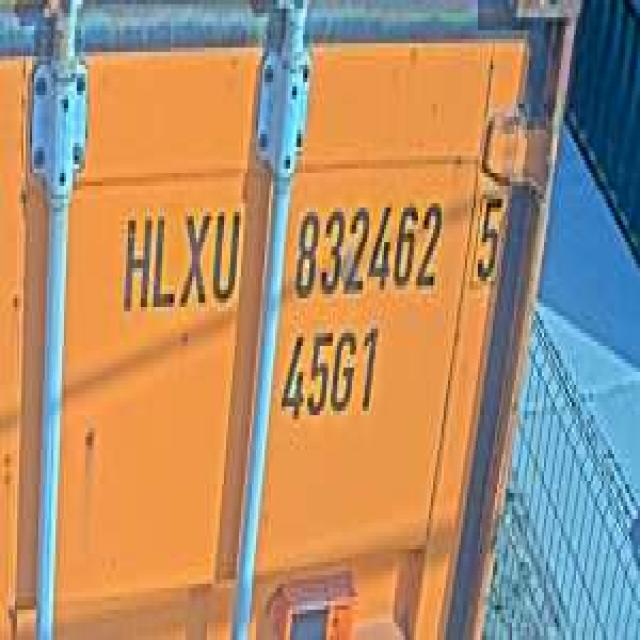dv: (467, 173, 512, 294)
owner: (117, 190, 245, 324)
serial: (290, 190, 446, 303)
size: (277, 316, 382, 428)
